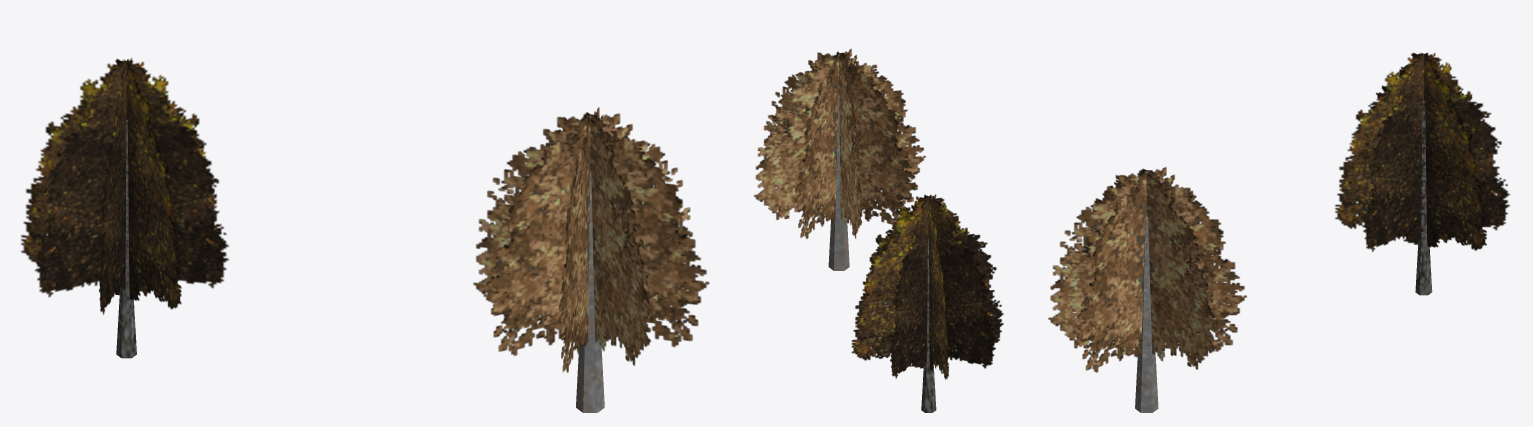
File: trees_29_33.glb
3 views of the same model, side by side, from view 1: azimuth 30°, elevation 25°; view 2: azimuth 150°, elevation 25°; view 3: azimuth 270°, elevation 25° (orthographic). The views are drawn at different scales.
Visible parts, largest first — view 1: tree29, tree33; view 2: tree29, tree33; view 3: tree29, tree33.
Boxes of the visible parts, x1=… form: tree29: x1=473, y1=107, x2=709, y2=412; tree33: x1=21, y1=58, x2=228, y2=358; tree29: x1=753, y1=49, x2=925, y2=270; tree33: x1=851, y1=194, x2=1003, y2=412; tree29: x1=1048, y1=167, x2=1246, y2=412; tree33: x1=1335, y1=52, x2=1509, y2=295.
Bounding box in the file's own units: 22.7 × 12.5 × 22.78.
2 materials, 2 textured.
